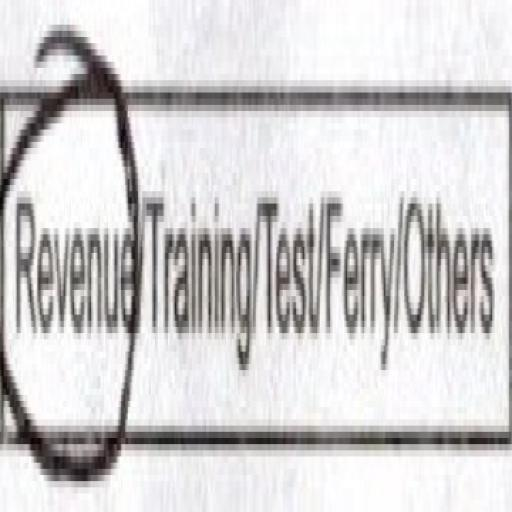check: (0, 0, 137, 512)
